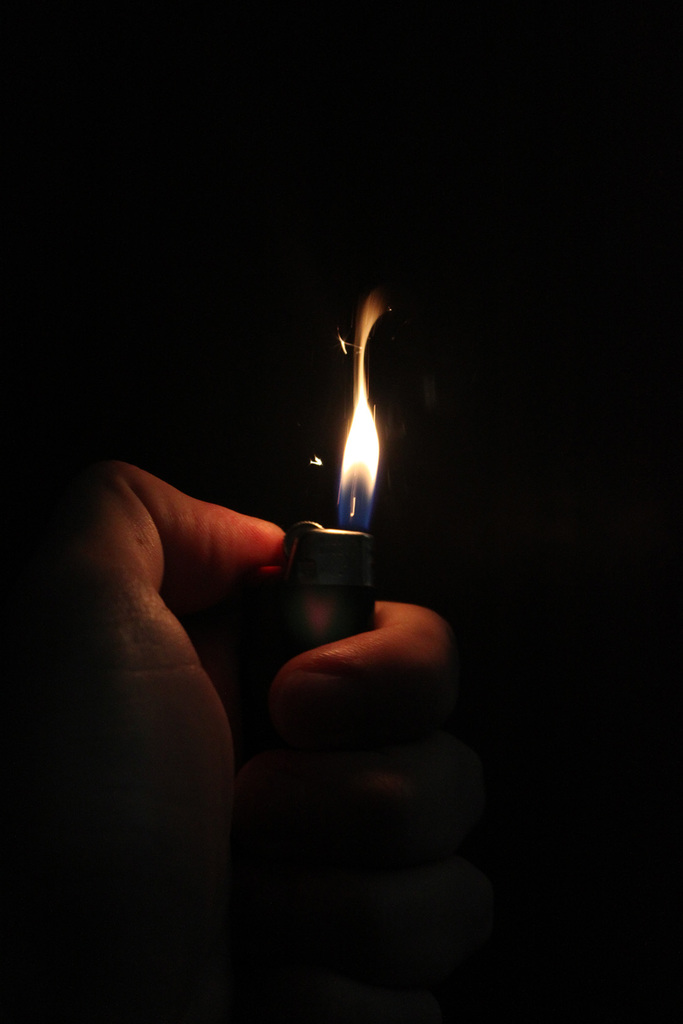Human_hand: (0, 462, 496, 1024)
